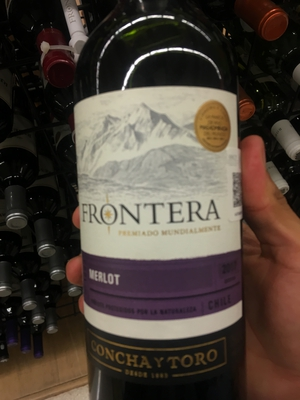frontera merlot: (61, 14, 247, 400)
